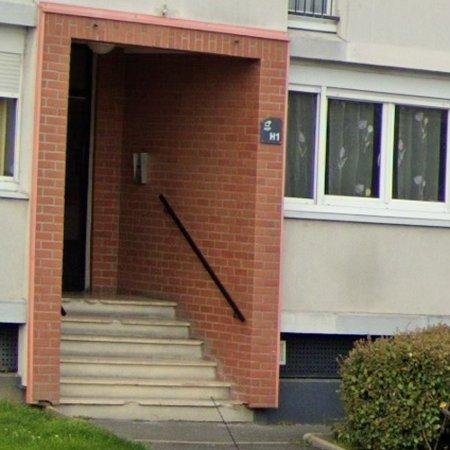stairs: (59, 300, 253, 423)
